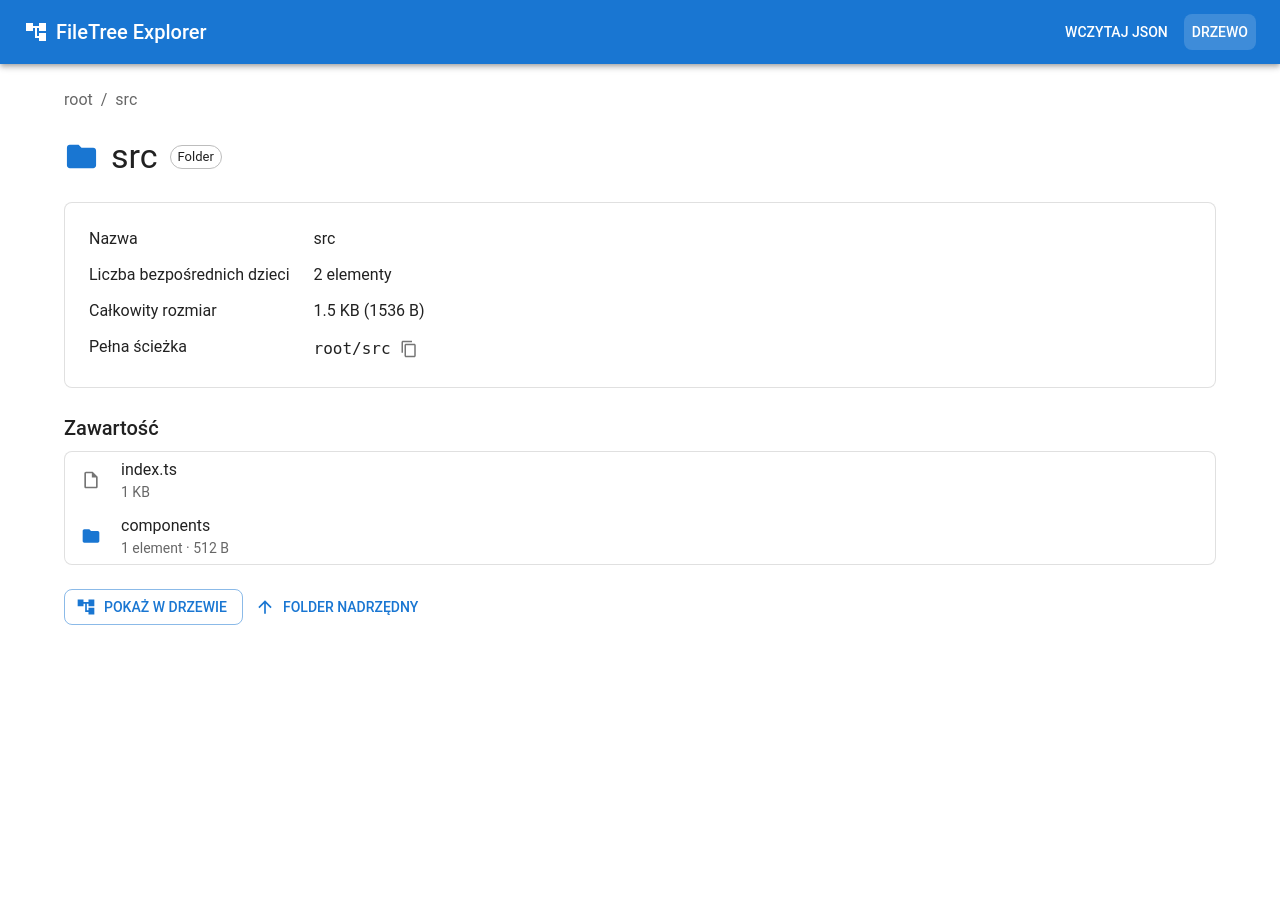
it: NodeDetailsPage › shows folder details: child count, total size and children with links
Expected: the text "Folder" is shown, [178,149,214,164]
Expected: the text "2 elementy" is shown, [314,265,392,284]
Step 1. Click the link "components 1 element · 512 B" → (155, 536), box [81,516,229,556]
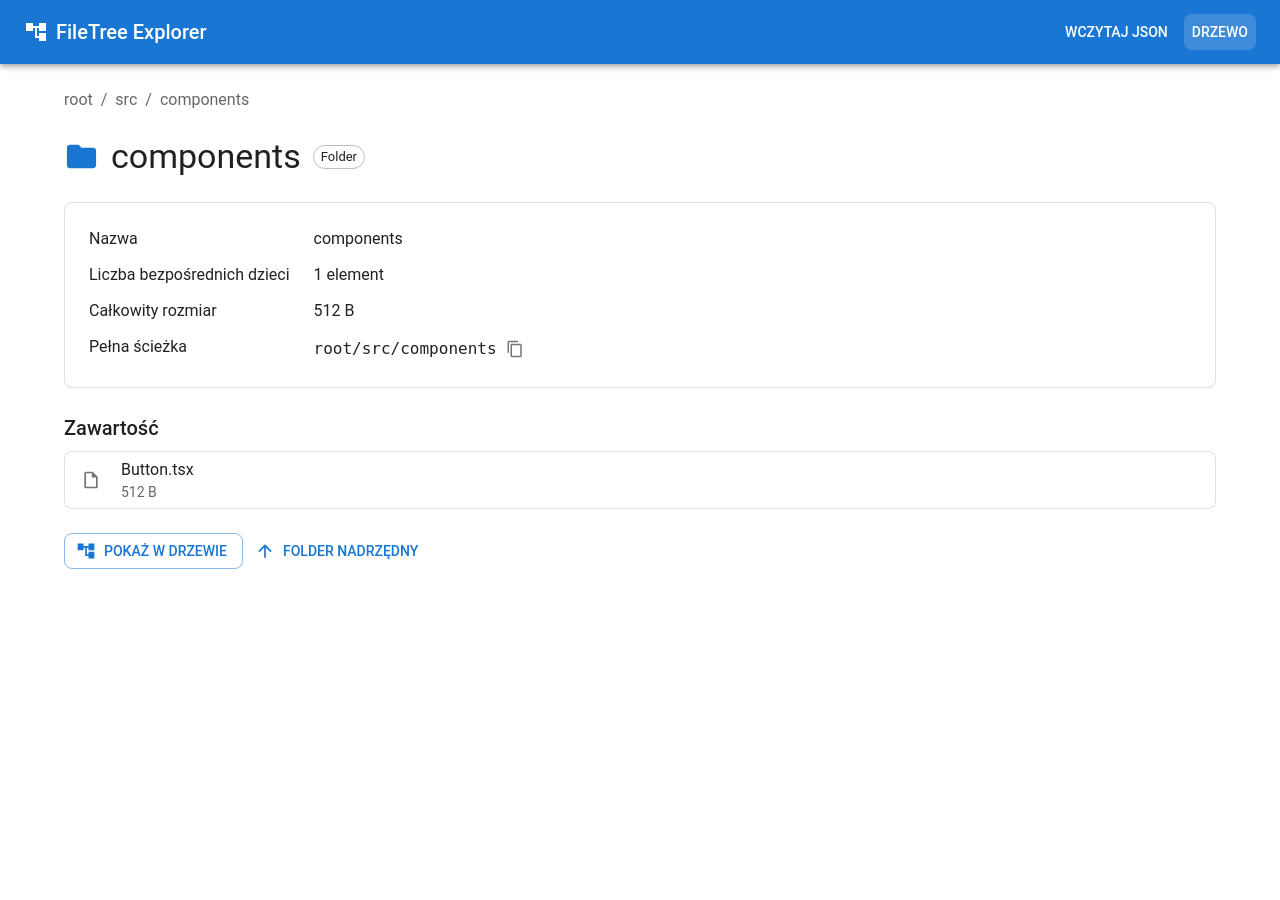
Result: the heading "components" is shown at [111,136,301,178]
